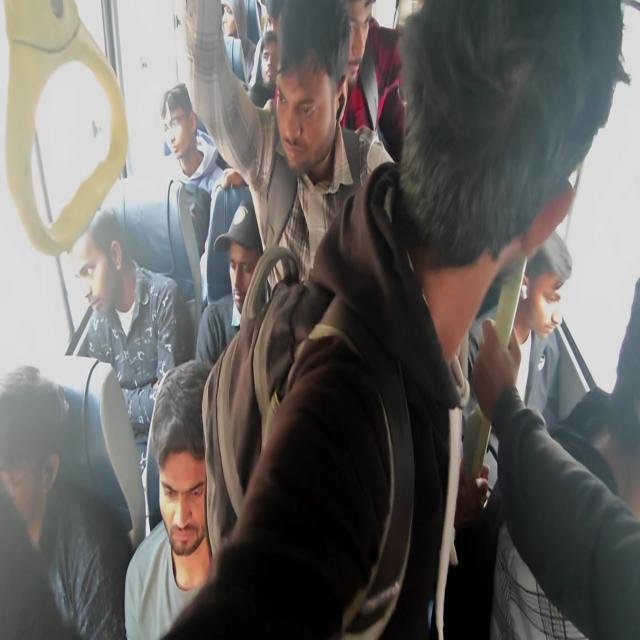person: (406, 0, 604, 316), (148, 357, 221, 571), (272, 0, 351, 174), (0, 366, 68, 543), (66, 208, 126, 322), (520, 228, 574, 342), (215, 199, 266, 318), (339, 0, 379, 91), (159, 81, 198, 158), (219, 5, 248, 42), (261, 38, 279, 92)
